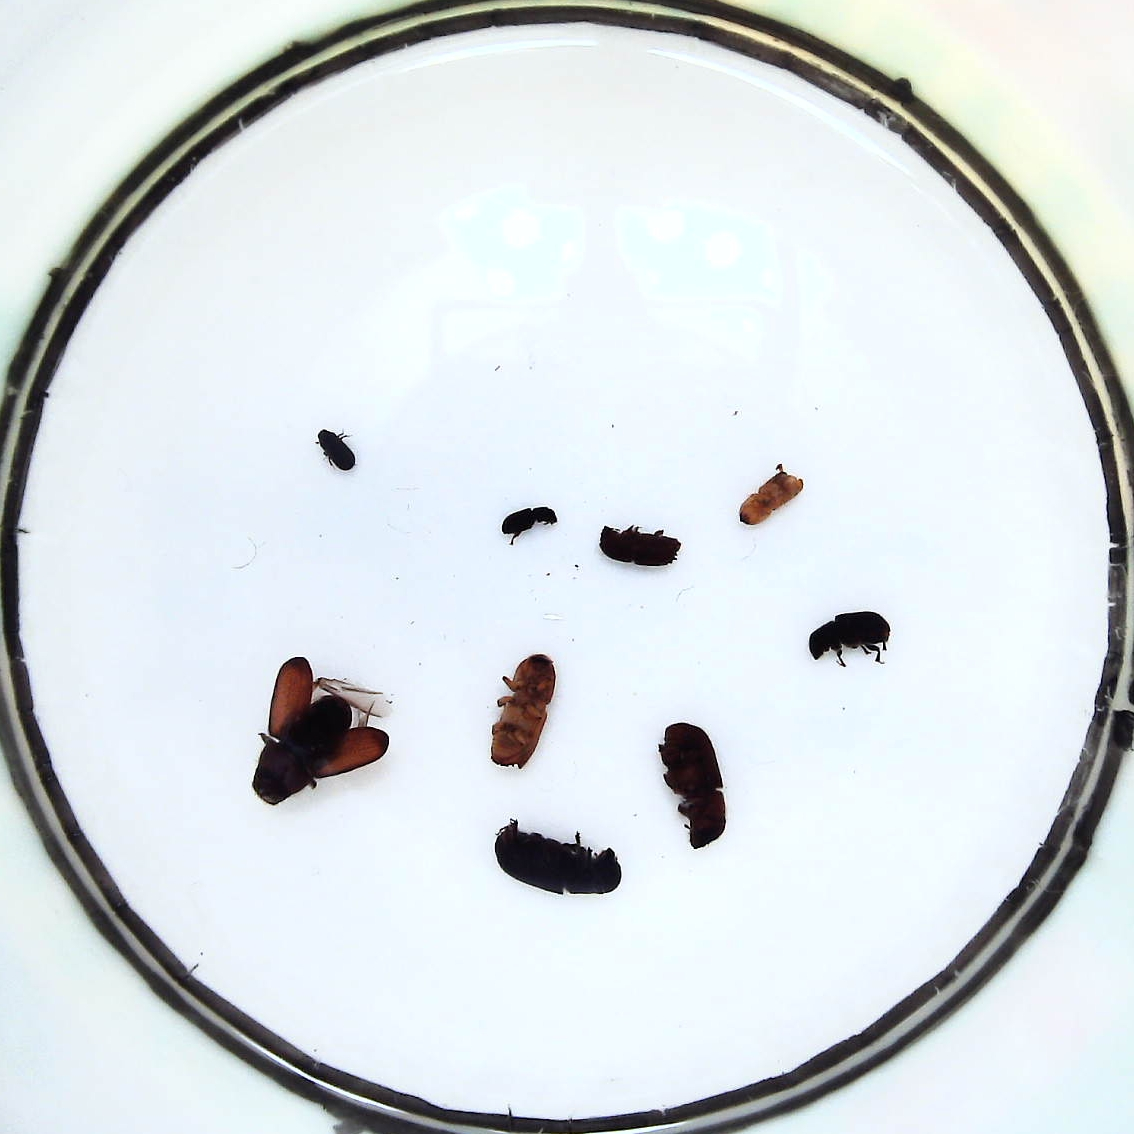Boerner: (492, 653, 555, 770)
Leconte: (252, 657, 389, 804), (494, 822, 621, 896), (661, 722, 726, 847)
acuminatus: (317, 429, 356, 471), (503, 506, 558, 536)
armandi: (810, 611, 890, 659)
coleoptera: (739, 473, 803, 524)
linnaeus: (599, 524, 680, 567)
